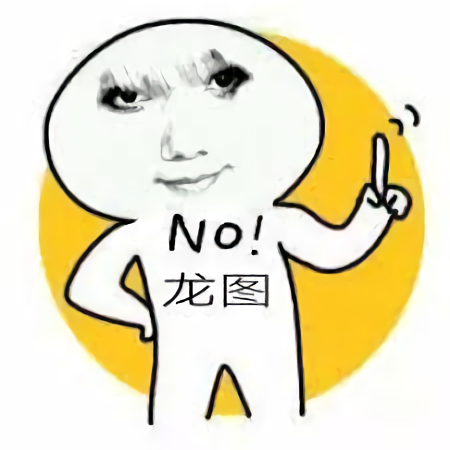dragon: (99, 57, 259, 193)
